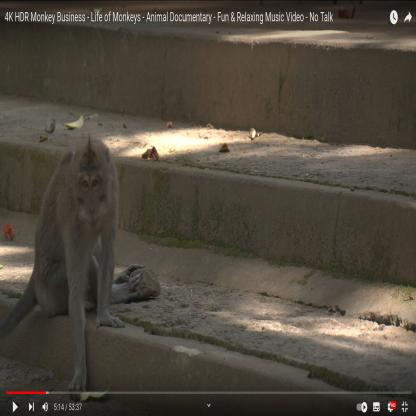monkey: (26, 135, 143, 373)
